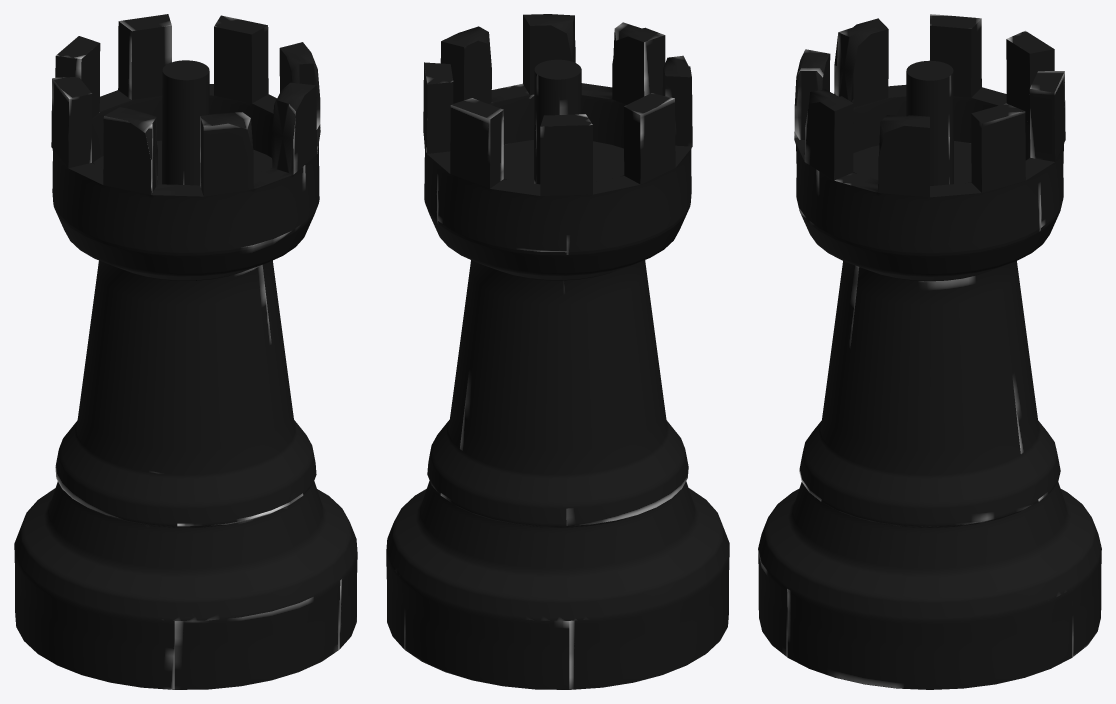
File: Rook_Black.fbx
3 renders of one model, left to right at view 1: azimuth 30°, elevation 25°; view 2: azimuth 150°, elevation 25°; view 3: azimuth 270°, elevation 25°, orthographic.
Parts seen in each view (by area): view 1: pCylinder11.001; view 2: pCylinder11.001; view 3: pCylinder11.001.
Part boxes in pixels (x1,y1,x2,y2): pCylinder11.001: (14,14,357,689); pCylinder11.001: (386,14,729,689); pCylinder11.001: (758,14,1101,689).
Size of the model in its own units: 1.96 by 3.45 by 1.96.
